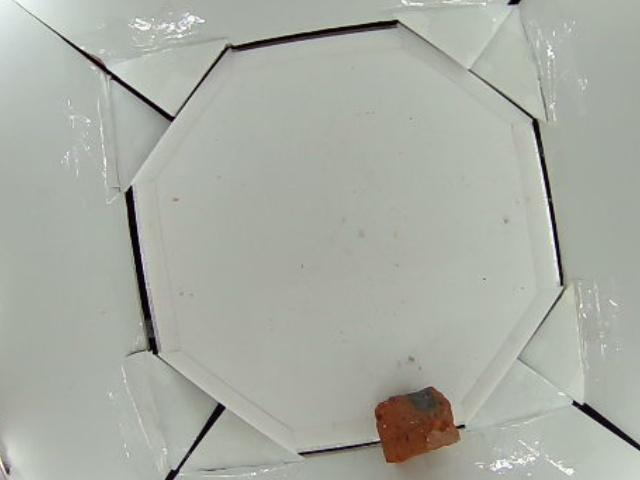Brisk: (378, 387, 459, 463)
